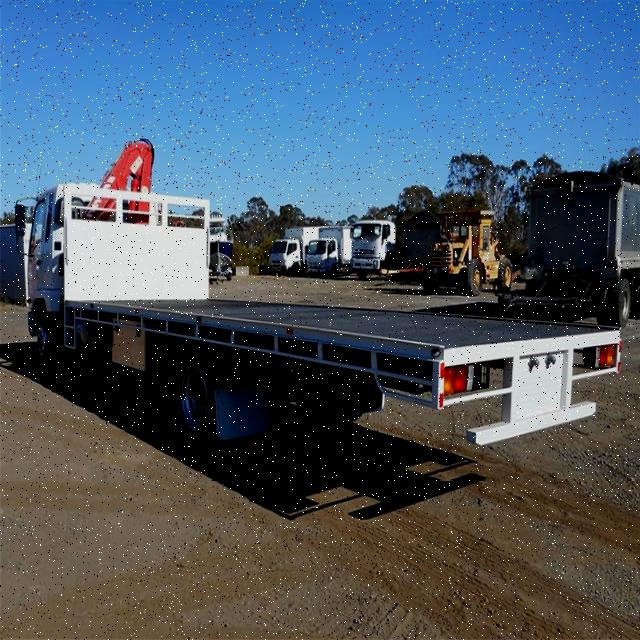truck: (26, 135, 623, 488)
